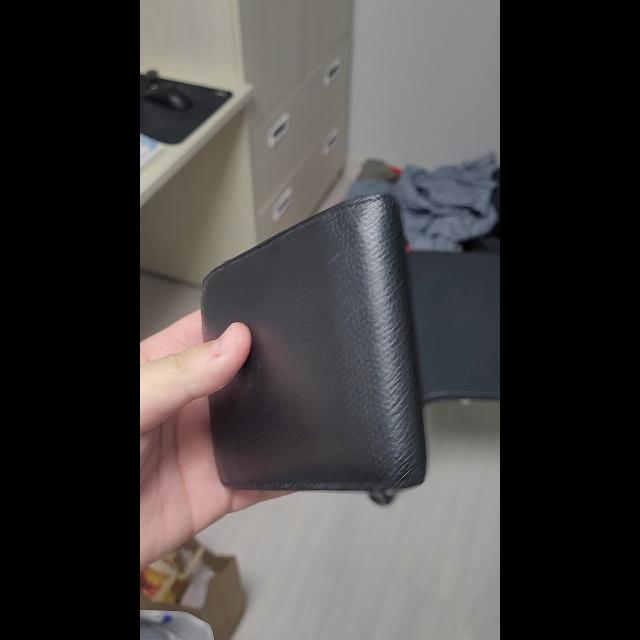WALLET: (201, 193, 427, 492)
